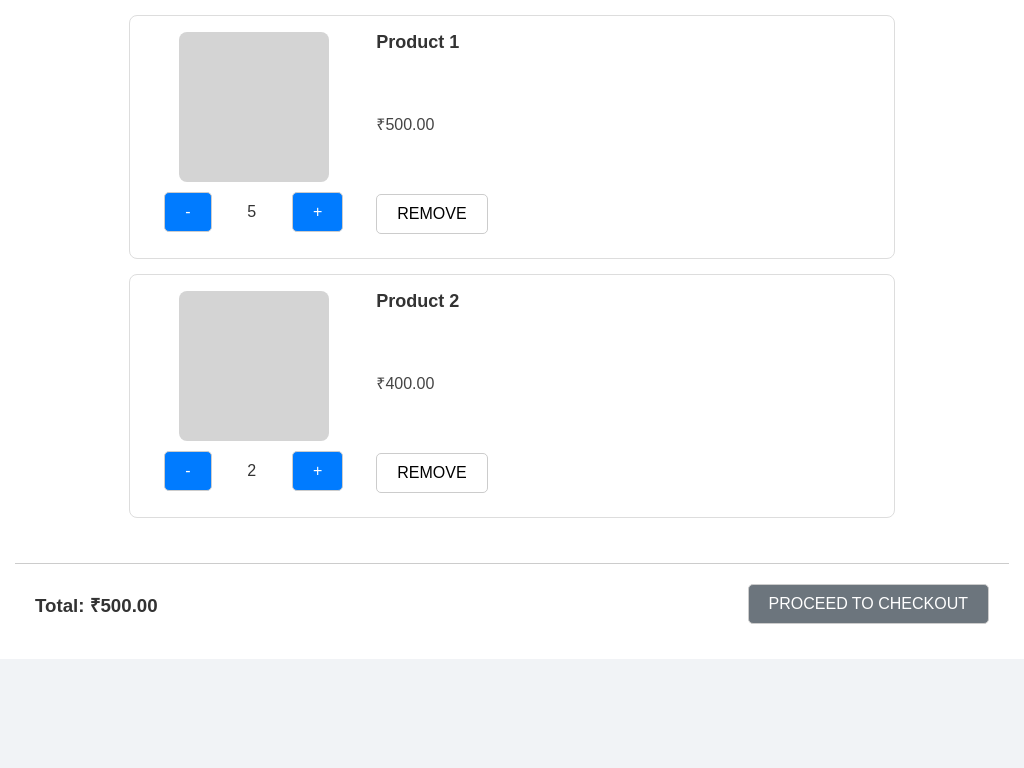
Cart Component › removes product from cart
The width and height of the screenshot is (1024, 768).
Click the button "Remove" below "Product 1": (432, 214) [376, 194, 488, 234]
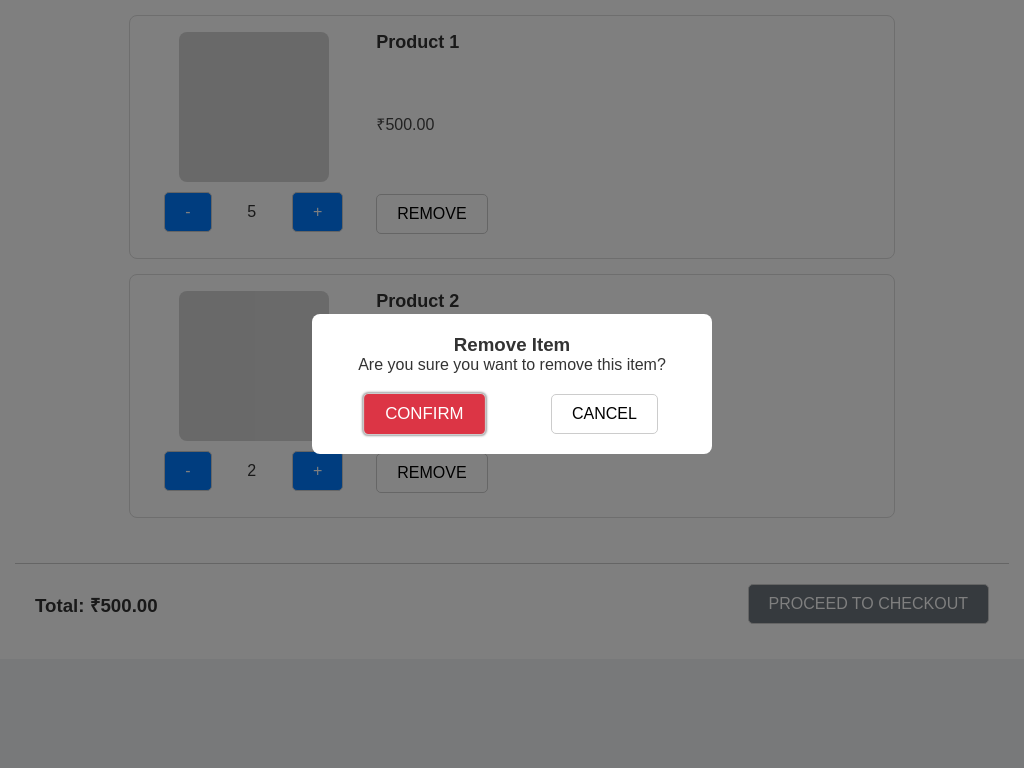
Now the text "Are you sure you want to remove this item?" is shown, box [332, 356, 692, 374]
